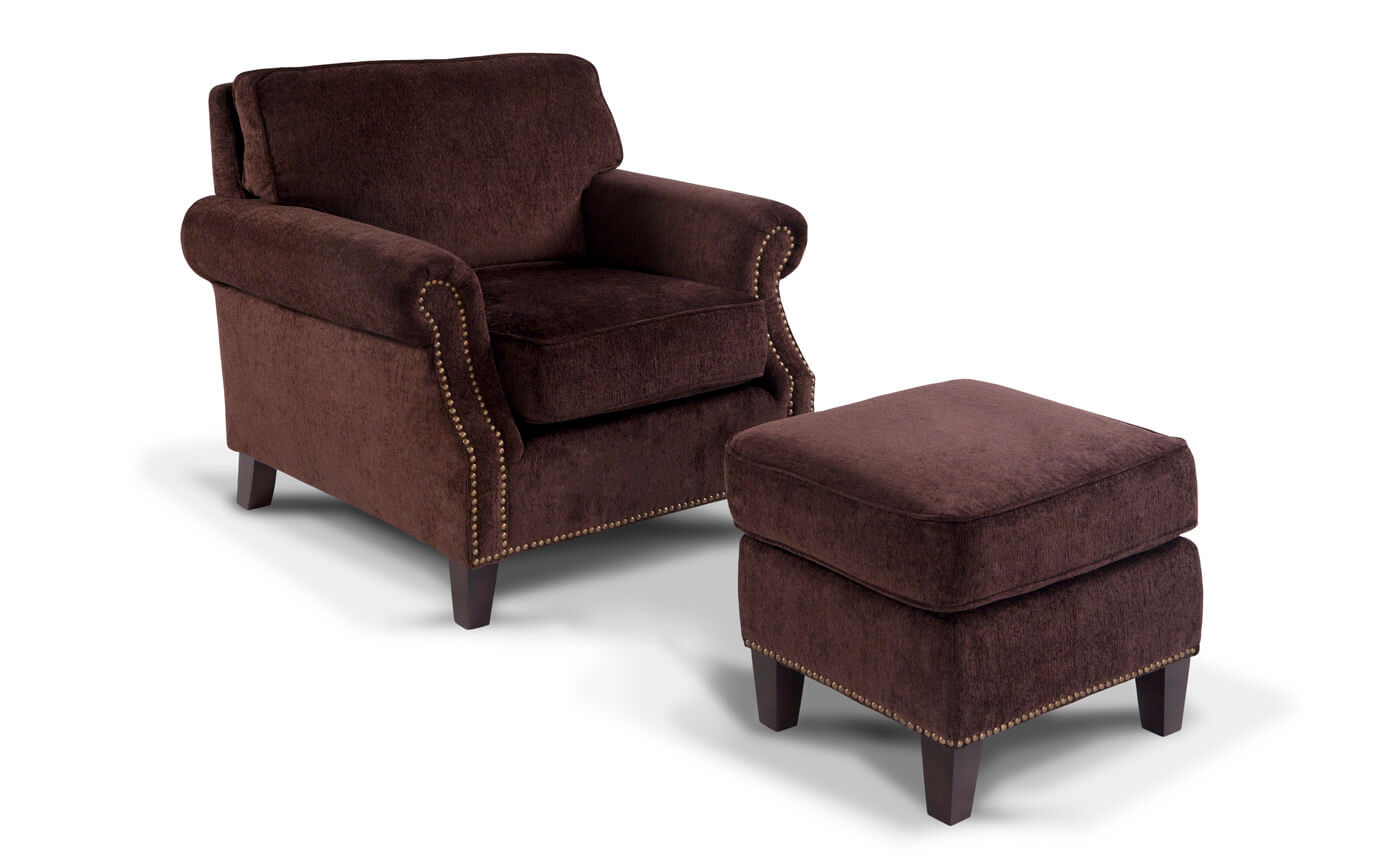chairs: (168, 37, 1237, 826)
